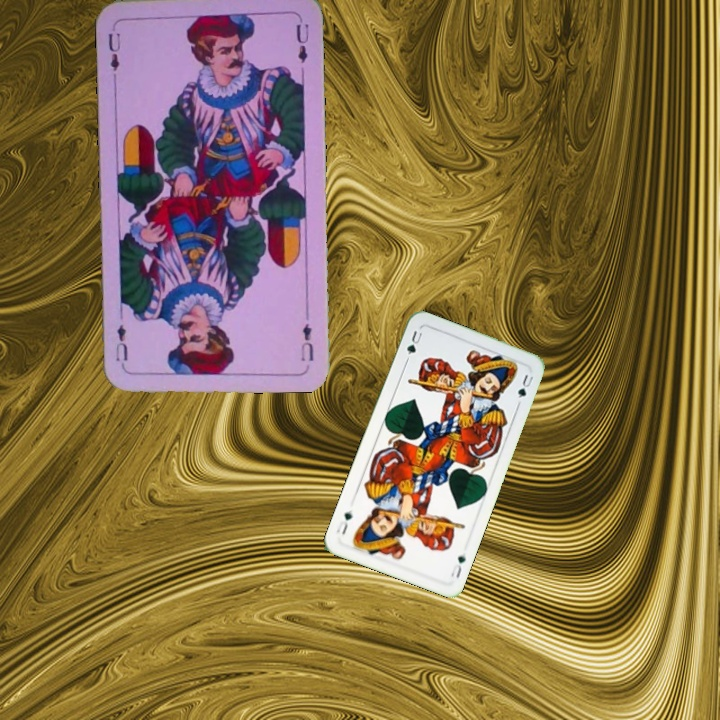EU: (104, 20, 123, 80), (297, 320, 316, 364)
GU: (402, 327, 425, 358), (447, 551, 468, 581)
